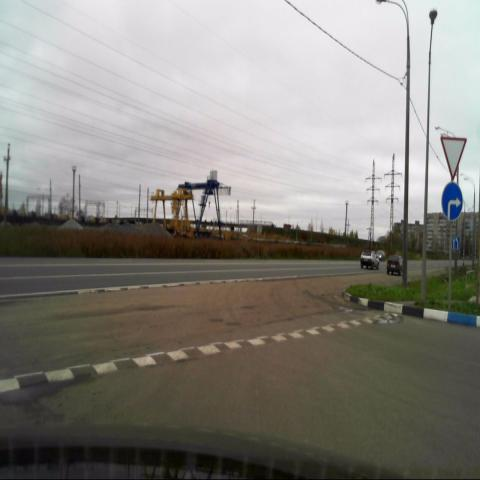4_1_2: (442, 182, 463, 223)
